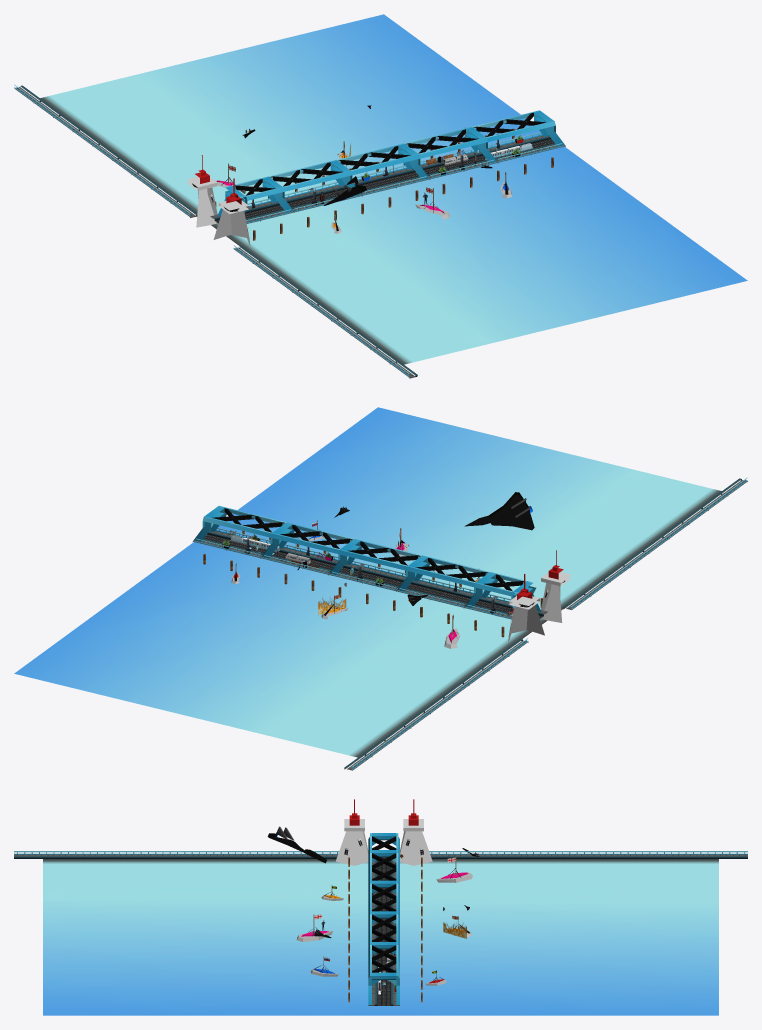
The model's file is subwaysurferstest40.glb.
The picture shows the model from 3 angles, top to bottom: view 1: azimuth 30°, elevation 25°; view 2: azimuth 150°, elevation 25°; view 3: azimuth 270°, elevation 25°; orthographic projection. The views are drawn at different scales.
Visible parts, largest first — view 1: Water, Overpass.002, Overpass, Overpass.001, Overpass.003, lighttower, Overpass.004, lighttower.001; view 2: Water, Overpass.003, Overpass.002, Overpass, Overpass.001, Plane1.001, lighttower.001, Overpass.004, lighttower; view 3: Water, lighttower.001, lighttower, Overpass, Overpass.002, Overpass.001, Overpass.003, Overpass.004, Plane1.001.
Part boxes in pixels (x1,y1,x2,y2): Water: (40,14,747,364); Overpass.002: (337,143,429,179); Overpass: (472,110,565,146); Overpass.001: (404,127,497,162); Overpass.003: (269,160,361,195); lighttower: (213,178,250,247); Overpass.004: (217,176,293,216); lighttower.001: (187,155,217,227); Water: (14,407,721,757); Overpass.003: (396,555,489,591); Overpass.002: (328,539,421,574); Overpass: (193,506,286,541); Overpass.001: (261,522,353,558); Plane1.001: (464,492,534,530); lighttower.001: (508,574,544,642); Overpass.004: (464,572,541,611); lighttower: (541,550,571,622); Water: (43,859,718,1015); lighttower.001: (400,799,432,865); lighttower: (335,799,368,865); Overpass: (368,945,399,1004); Overpass.002: (368,883,399,923); Overpass.001: (368,914,399,954); Overpass.003: (368,853,399,893); Overpass.004: (368,833,399,862); Plane1.001: (267,826,326,863).
Bounding box in the file's own units: 424 × 87.32 × 808.
5 materials, 5 textured.
